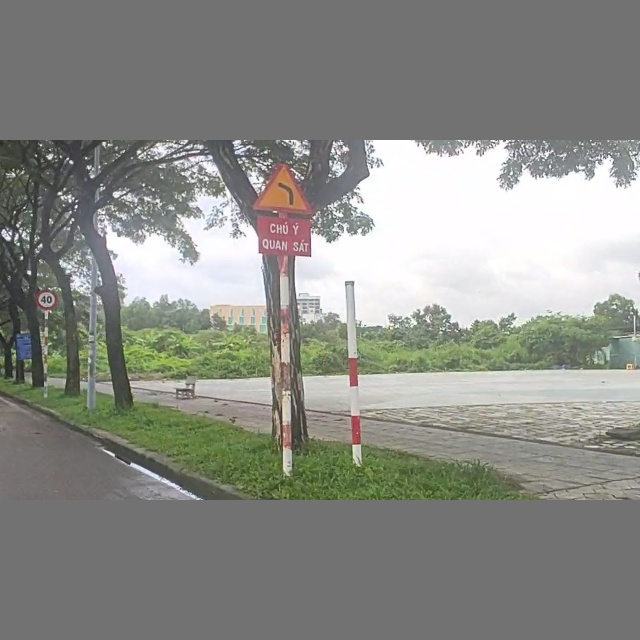P.127*40: (36, 288, 59, 311)
W.201a: (251, 161, 320, 215)
